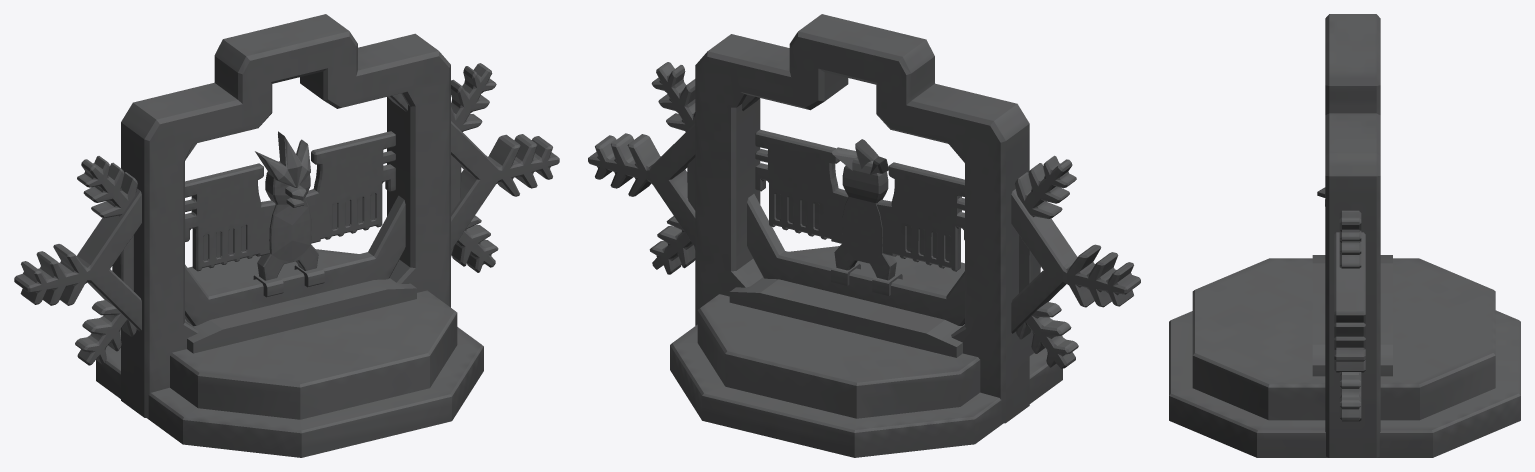
3 renders of one model, left to right at view 1: azimuth 30°, elevation 25°; view 2: azimuth 150°, elevation 25°; view 3: azimuth 270°, elevation 25°, orthographic.
Visible parts, largest first — view 1: articuno_shrine; view 2: articuno_shrine; view 3: articuno_shrine.
Part boxes in pixels (left/top/right/bottom): articuno_shrine: left=14, top=14, right=559, bottom=457; articuno_shrine: left=588, top=14, right=1140, bottom=457; articuno_shrine: left=1169, top=14, right=1520, bottom=457.
Bounding box in the file's own units: 1.74 × 1.06 × 0.9842.
